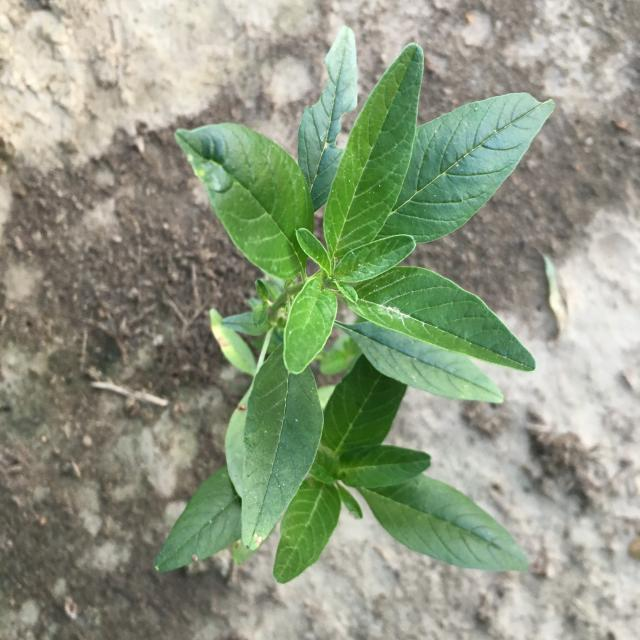Waterhemp: (154, 26, 556, 584)
